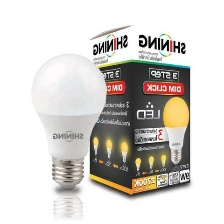carton: (83, 18, 195, 201)
light_bulb: (27, 46, 113, 193)
